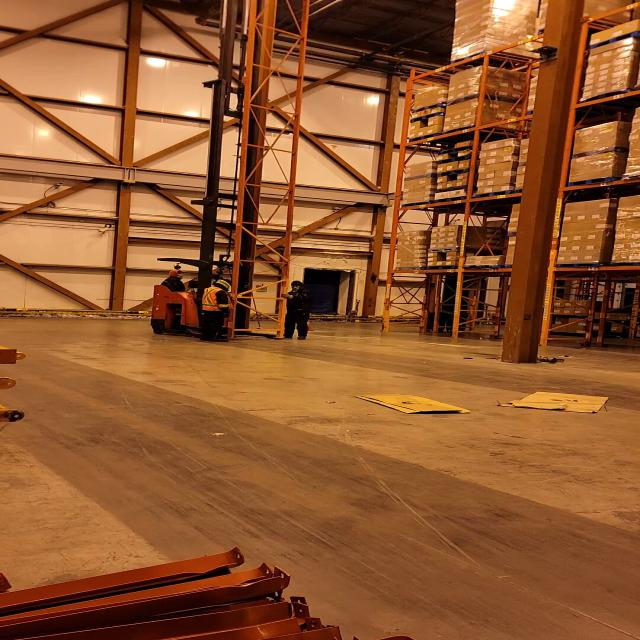forklift: (146, 198, 280, 342)
human: (268, 275, 315, 343), (193, 275, 239, 342), (154, 268, 190, 292)
objectofinterest: (230, 19, 304, 347), (349, 391, 481, 417), (498, 387, 615, 414)
